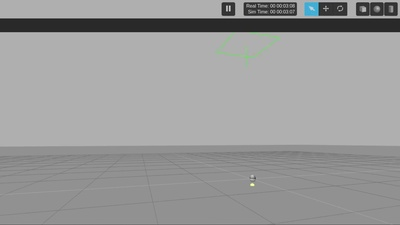mira_robot: (248, 174, 257, 182)
